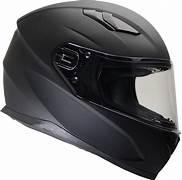Helmet: (2, 0, 179, 179)
